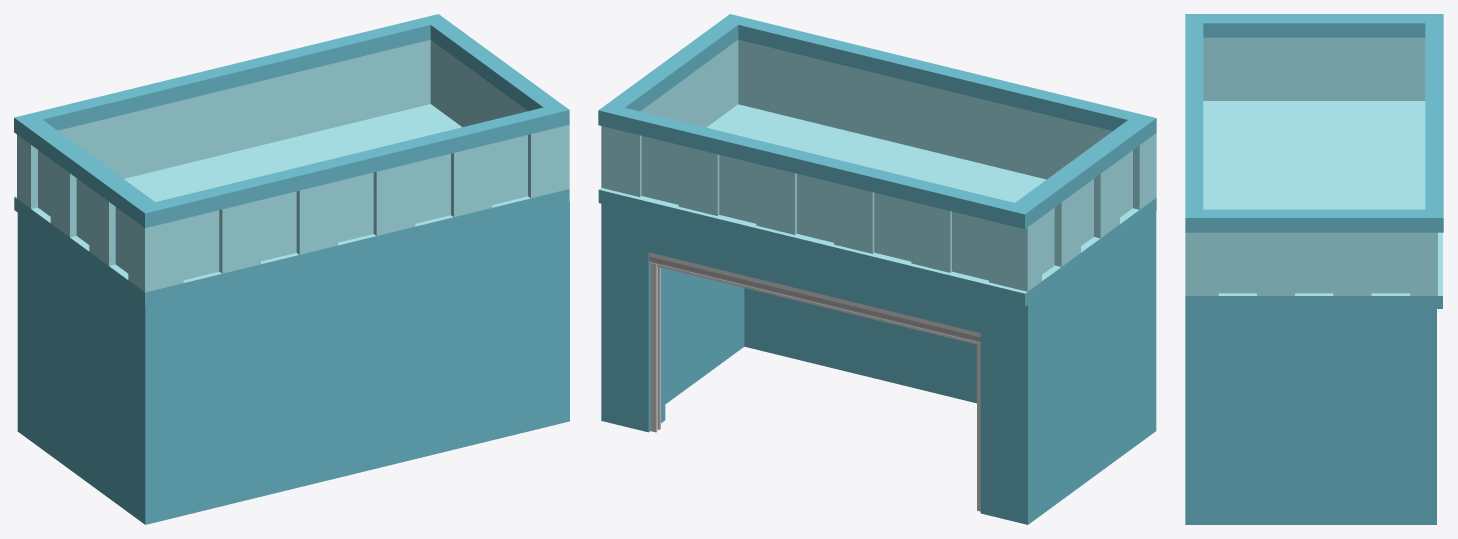
File: largeshop.fbx
The picture shows the model from 3 angles, left to right: view 1: azimuth 30°, elevation 25°; view 2: azimuth 150°, elevation 25°; view 3: azimuth 270°, elevation 25°; orthographic projection. The views are drawn at different scales.
Visible parts, largest first — view 1: largeshop, Roof.001; view 2: Roof.001, largeshop, Cube.176, Cube.174, Cube.175, Cube.177; view 3: Roof.001, largeshop.
Boxes of the visible parts, bbox=[...] form: largeshop: bbox=[17, 201, 569, 524]; Roof.001: bbox=[14, 14, 569, 305]; Roof.001: bbox=[598, 14, 1156, 306]; largeshop: bbox=[601, 203, 1156, 524]; Cube.176: bbox=[649, 252, 980, 342]; Cube.174: bbox=[650, 263, 660, 432]; Cube.175: bbox=[657, 264, 976, 344]; Cube.177: bbox=[977, 342, 980, 511]; Roof.001: bbox=[1185, 14, 1443, 308]; largeshop: bbox=[1185, 308, 1436, 524].
Bounding box in the file's own units: 12.13 × 8.5 × 6.48.
